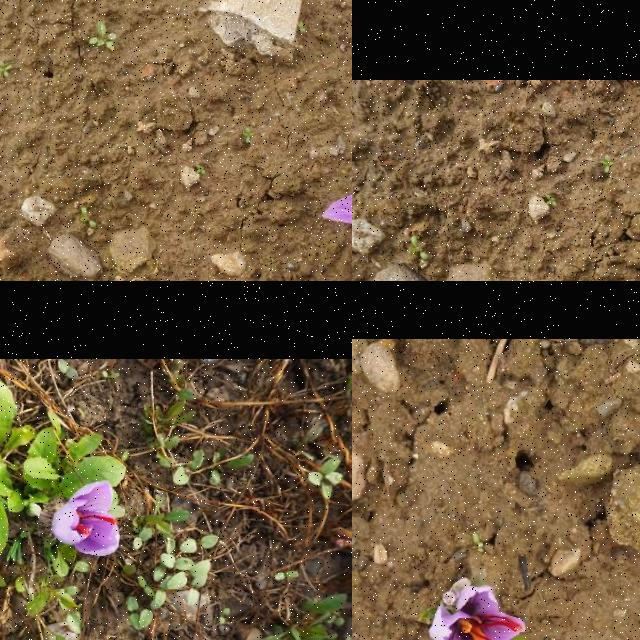flower: (431, 584, 550, 640), (51, 479, 120, 556), (321, 115, 352, 251)
